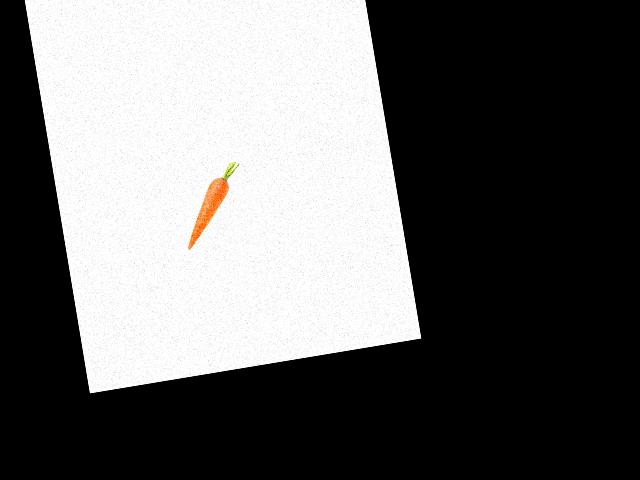carrot: (174, 171, 239, 251)
